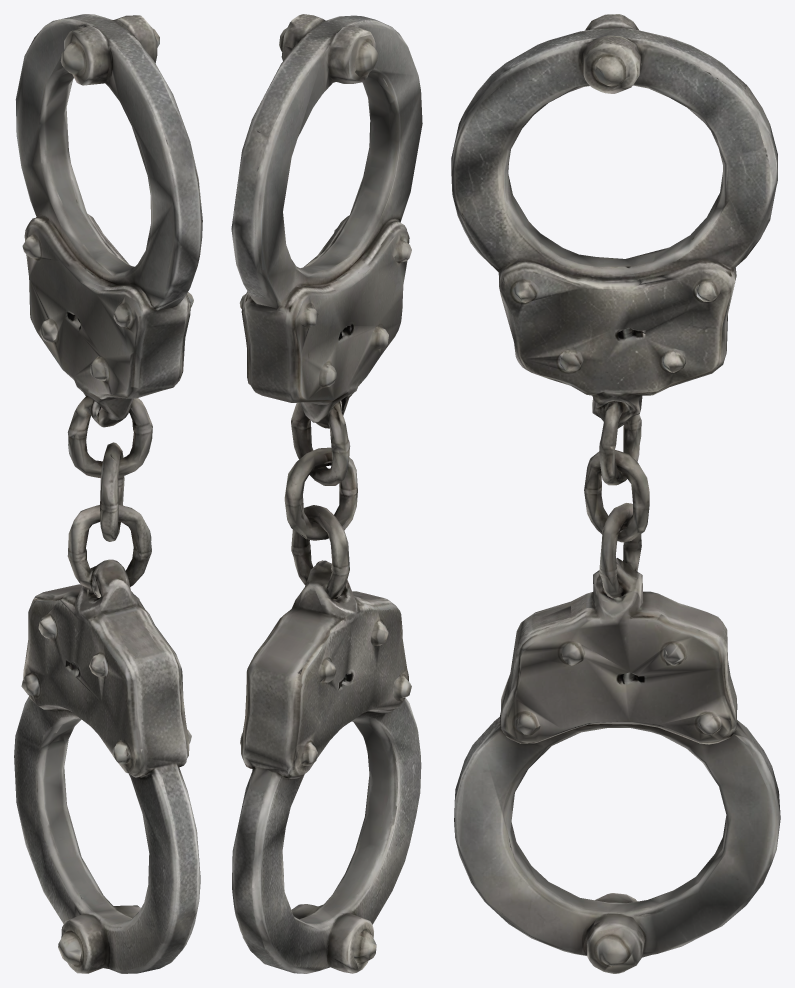
Rendered from handcuffs.glb.
3 views of the same model, side by side, from view 1: azimuth 30°, elevation 25°; view 2: azimuth 150°, elevation 25°; view 3: azimuth 270°, elevation 25° (orthographic).
Visible parts, largest first — view 1: handcuffs; view 2: handcuffs; view 3: handcuffs.
Part boxes in pixels (x1,y1,x2,y2): handcuffs: (14,14,202,973); handcuffs: (231,14,422,973); handcuffs: (451,14,780,973).
Bounding box in the file's own units: 0.0273 × 0.2599 × 0.0833.
Materials: 1 (1 with a texture image).
